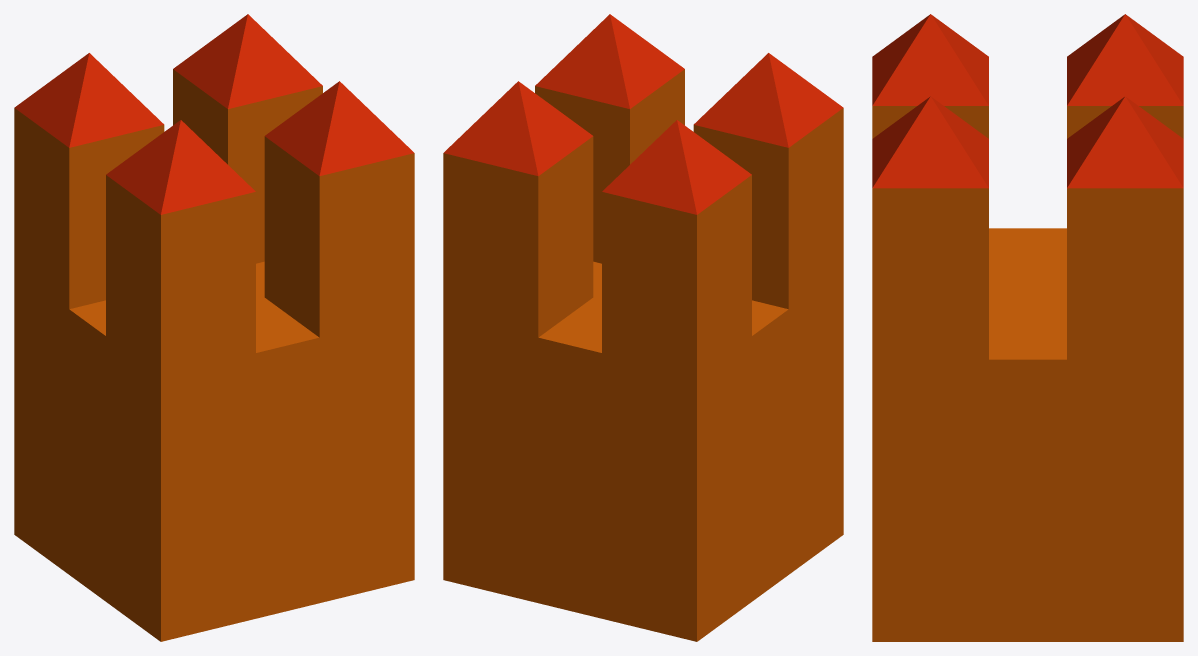
File: castle_001.dae
3 views of the same model, side by side, from view 1: azimuth 30°, elevation 25°; view 2: azimuth 150°, elevation 25°; view 3: azimuth 270°, elevation 25° (orthographic). The views are drawn at different scales.
Visible parts, largest first — view 1: Cube_001; view 2: Cube_001; view 3: Cube_001.
Boxes of the visible parts, <box> form: Cube_001: <box>14,14,414,641</box>; Cube_001: <box>443,14,843,641</box>; Cube_001: <box>872,14,1183,641</box>.
Size of the model in its own units: 6.99 by 6.99 by 12.9.
